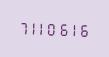one: (27, 19, 36, 36), (37, 19, 46, 36), (67, 20, 76, 37)
seven: (17, 18, 26, 36)
six: (77, 20, 86, 38), (57, 20, 66, 37)
zero: (47, 19, 56, 37)
